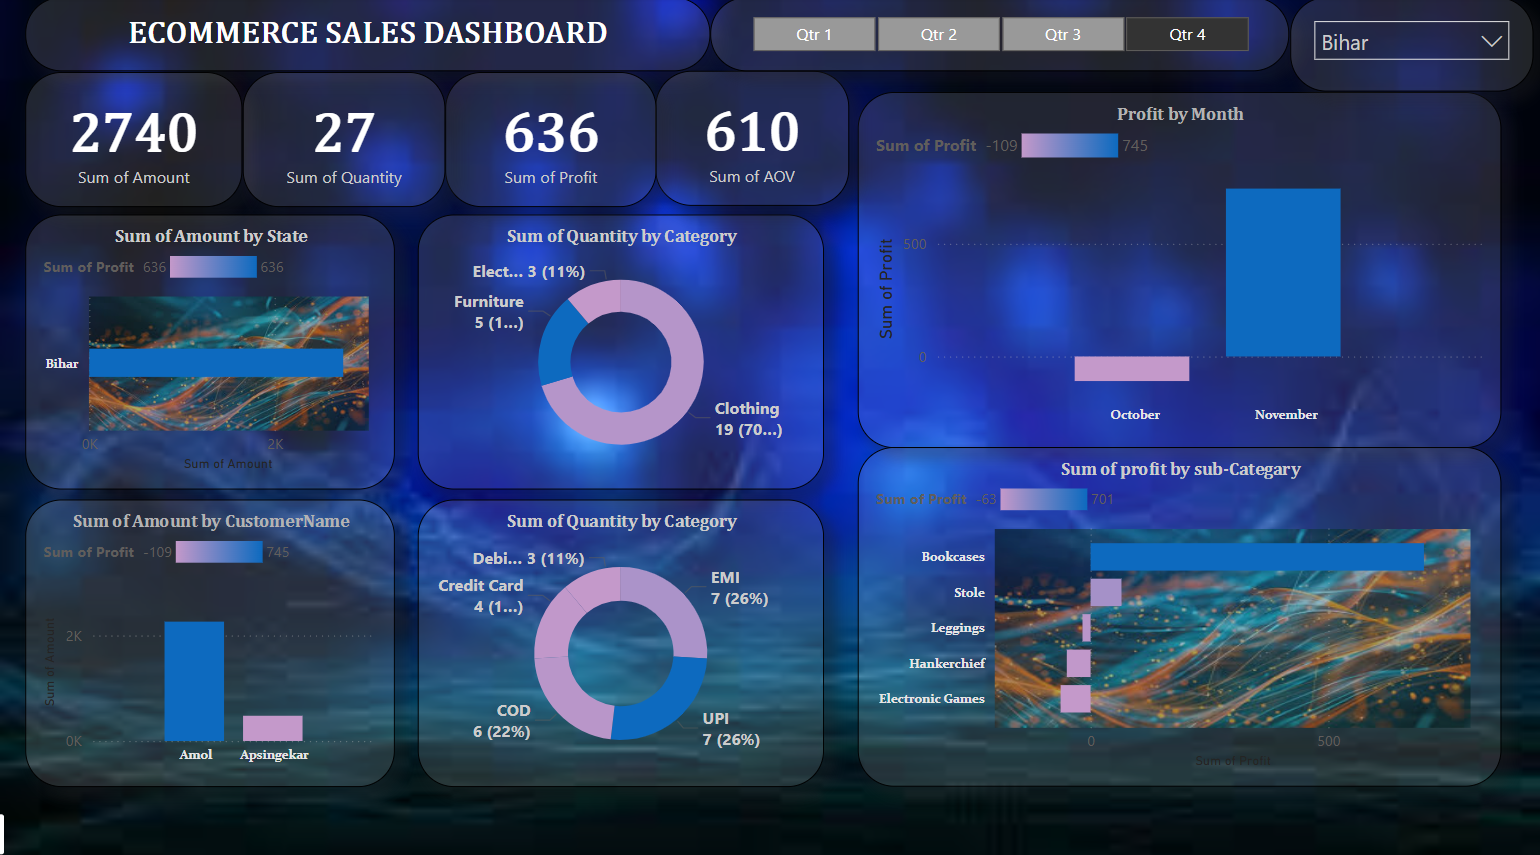

The page's visual inventory and layout, read from the dashboard file:
{"tool":"powerbi","page":{"name":"Page 1","canvas":[1280,720],"ordinal":0},"visuals":[{"type":"textbox","box":[21.7,0,568.3,61.7],"z":0},{"type":"columnChart","title":"Profit by Month","fields":{"Y":["Details.Profit"],"Category":["Orders.Order Date.Variation.Date Hierarchy.Month"]},"box":[711.7,78.3,533.3,295],"z":1000},{"type":"barChart","title":"Sum of profit by sub-Categary","fields":{"Category":["Details.Sub-Category"],"Y":["Details.Profit"]},"box":[711.7,373.3,533.3,281.7],"z":2000},{"type":"donutChart","title":"Sum of Quantity by Category","fields":{"Category":["Details.Category"],"Y":["Details.Quantity"]},"box":[346.7,180,336.7,228.3],"z":3000},{"type":"donutChart","title":"Sum of Quantity by Category","fields":{"Y":["Details.Quantity"],"Category":["Details.PaymentMode"]},"box":[346.7,416.7,336.7,238.3],"z":4000},{"type":"card","fields":{"Values":["Details.Amount"]},"box":[21.7,61.7,180,111.7],"z":5000},{"type":"card","fields":{"Values":["Details.AOV"]},"box":[544.4,61.1,161.1,112.2],"z":6000},{"type":"card","fields":{"Values":["Details.Profit"]},"box":[370,61.7,175,111.7],"z":7000},{"type":"card","fields":{"Values":["Details.Quantity"]},"box":[201.7,61.7,168.3,111.7],"z":8000},{"type":"barChart","fields":{"Category":["Orders.State"],"Y":["Details.Amount"]},"box":[21.7,180,306.7,228.3],"z":9000},{"type":"columnChart","fields":{"Category":["Orders.CustomerName"],"Y":["Details.Amount"]},"box":[21.7,416.7,306.7,238.3],"z":10000},{"type":"slicer","fields":{"Values":["Orders.Order Date.Variation.Date Hierarchy.Quarter"]},"box":[590,0,480,61.7],"z":11000},{"type":"slicer","fields":{"Values":["Orders.State"]},"box":[1070,0,201.2,78.8],"z":12000}]}

Visuals, with their boxes in screenshot pixels (x1, y1, x2, y2), scaled from the page's 1280x720 canvas onto the 1540x855 screenshot:
textbox: x1=26 y1=0 x2=710 y2=73
"Profit by Month" columnChart: x1=856 y1=93 x2=1498 y2=443
"Sum of profit by sub-Categary" barChart: x1=856 y1=443 x2=1498 y2=778
"Sum of Quantity by Category" donutChart: x1=417 y1=214 x2=822 y2=485
"Sum of Quantity by Category" donutChart: x1=417 y1=495 x2=822 y2=778
card - Details.Amount: x1=26 y1=73 x2=243 y2=206
card - Details.AOV: x1=655 y1=73 x2=849 y2=206
card - Details.Profit: x1=445 y1=73 x2=656 y2=206
card - Details.Quantity: x1=243 y1=73 x2=445 y2=206
barChart - Orders.State x Details.Amount: x1=26 y1=214 x2=395 y2=485
columnChart - Orders.CustomerName x Details.Amount: x1=26 y1=495 x2=395 y2=778
slicer - Orders.Order Date.Variation.Date Hierarchy.Quarter: x1=710 y1=0 x2=1287 y2=73
slicer - Orders.State: x1=1287 y1=0 x2=1529 y2=94
